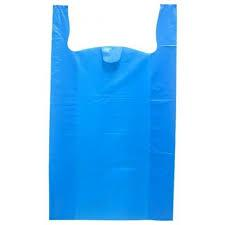Plastic bag: (30, 0, 205, 220)
